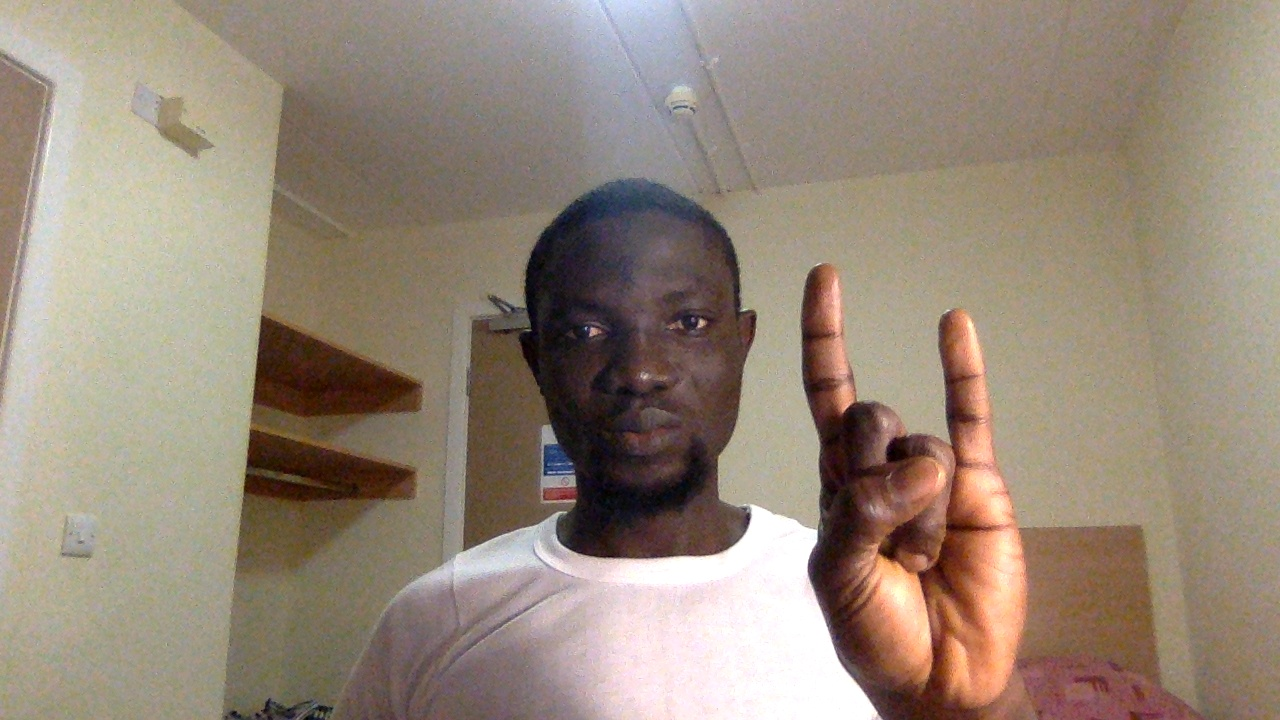I Love You: (792, 259, 1096, 720)
